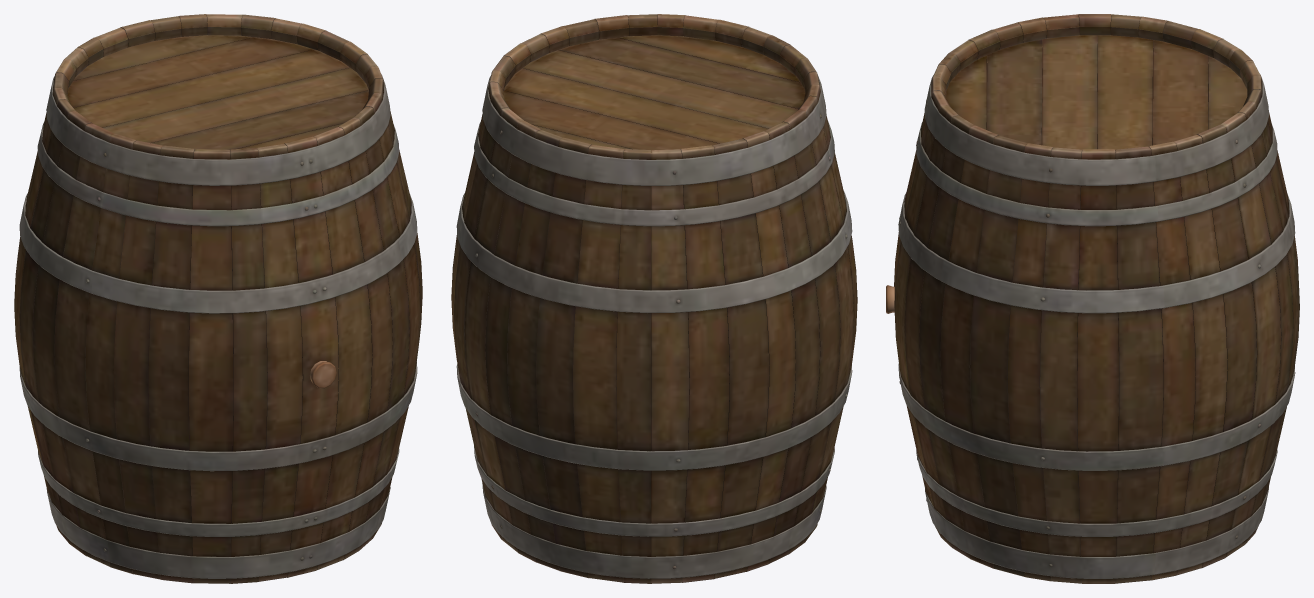
The model's file is wine_barrel_01.glb.
3 views of the same model, side by side, from view 1: azimuth 30°, elevation 25°; view 2: azimuth 150°, elevation 25°; view 3: azimuth 270°, elevation 25° (orthographic).
Visible parts, largest first — view 1: wine_barrel_01_Lid; view 2: wine_barrel_01_Lid; view 3: wine_barrel_01_Lid.
Part boxes in pixels (x1,y1,x2,y2): wine_barrel_01_Lid: (14, 14, 422, 583); wine_barrel_01_Lid: (451, 14, 857, 583); wine_barrel_01_Lid: (886, 14, 1299, 583).
Bounding box in the file's own units: 0.7419 × 0.8713 × 0.7561.
Materials: 1 (1 with a texture image).
